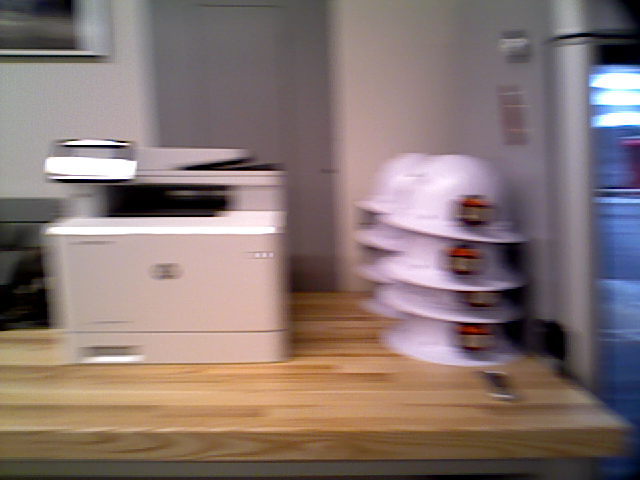painting2: (1, 1, 114, 67)
